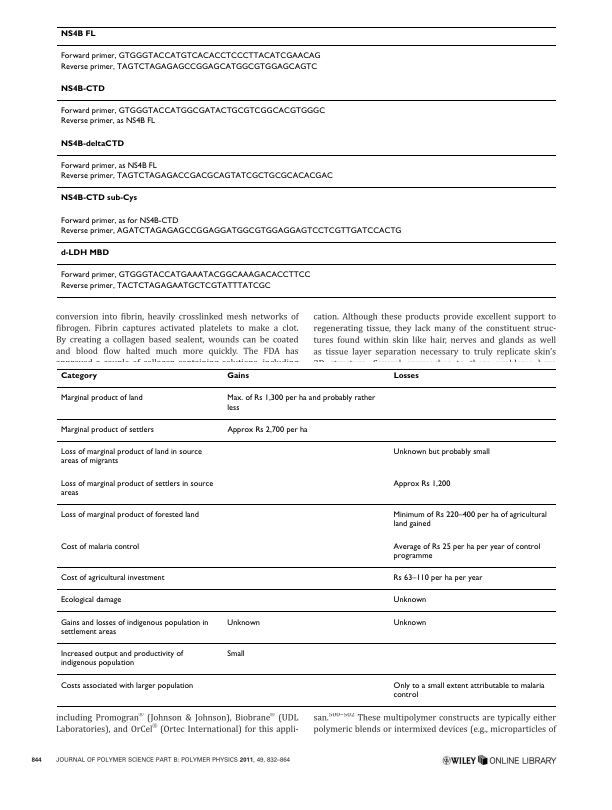borderless: (56, 367, 556, 706), (56, 25, 556, 297)
cell: (59, 226, 402, 236), (59, 479, 214, 498), (392, 510, 547, 529), (392, 681, 545, 700), (226, 394, 376, 413), (59, 618, 209, 637), (392, 542, 541, 561), (59, 171, 333, 181), (59, 447, 202, 466), (59, 106, 326, 116), (59, 62, 318, 72), (59, 649, 184, 668), (59, 52, 321, 61), (59, 271, 311, 280), (59, 281, 271, 291), (59, 510, 199, 520), (59, 681, 194, 691), (59, 216, 179, 226), (59, 573, 165, 583), (392, 447, 490, 457), (59, 161, 157, 171), (59, 425, 154, 435), (392, 573, 483, 583), (59, 117, 156, 126), (226, 425, 308, 435), (59, 542, 140, 552), (59, 394, 143, 403), (59, 194, 138, 203), (59, 139, 125, 149), (392, 479, 451, 489), (59, 596, 122, 605), (59, 84, 105, 94), (59, 249, 109, 258), (392, 618, 427, 628), (59, 372, 97, 381), (226, 618, 260, 628), (59, 30, 96, 39), (392, 596, 427, 605), (392, 372, 419, 381), (226, 372, 249, 381), (226, 649, 245, 659)
